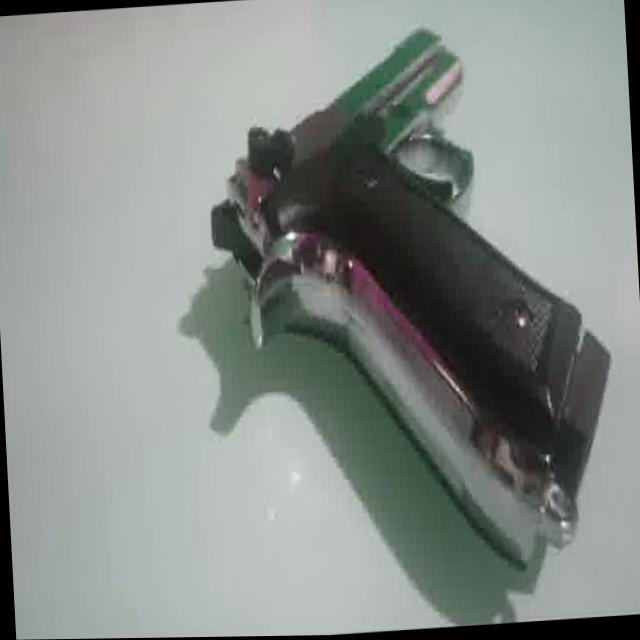weapon: (201, 14, 622, 589)
